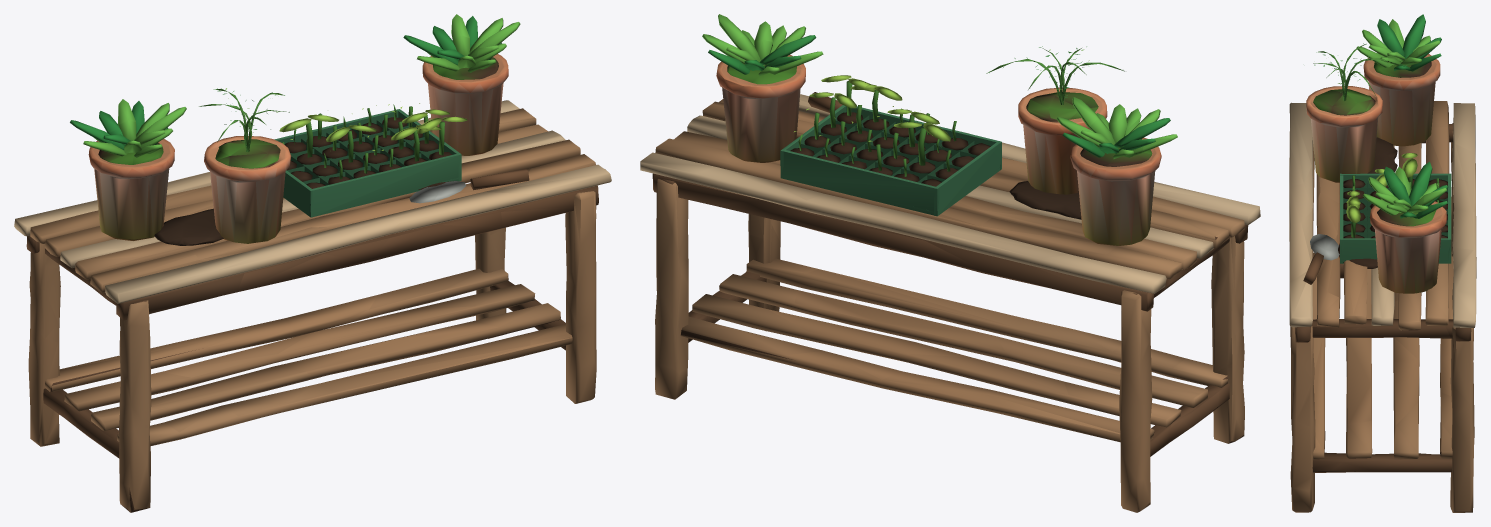
The model's file is canopy_slat_bench_lod1.glb.
3 views of the same model, side by side, from view 1: azimuth 30°, elevation 25°; view 2: azimuth 150°, elevation 25°; view 3: azimuth 270°, elevation 25° (orthographic). The views are drawn at different scales.
Visible parts, largest first — view 1: canopy_slat_bench.001; view 2: canopy_slat_bench.001; view 3: canopy_slat_bench.001.
Part boxes in pixels (x1,y1,x2,y2): canopy_slat_bench.001: (14, 14, 611, 512); canopy_slat_bench.001: (640, 14, 1260, 512); canopy_slat_bench.001: (1289, 14, 1476, 512).
Bounding box in the file's own units: 16.04 × 10.95 × 5.85.
